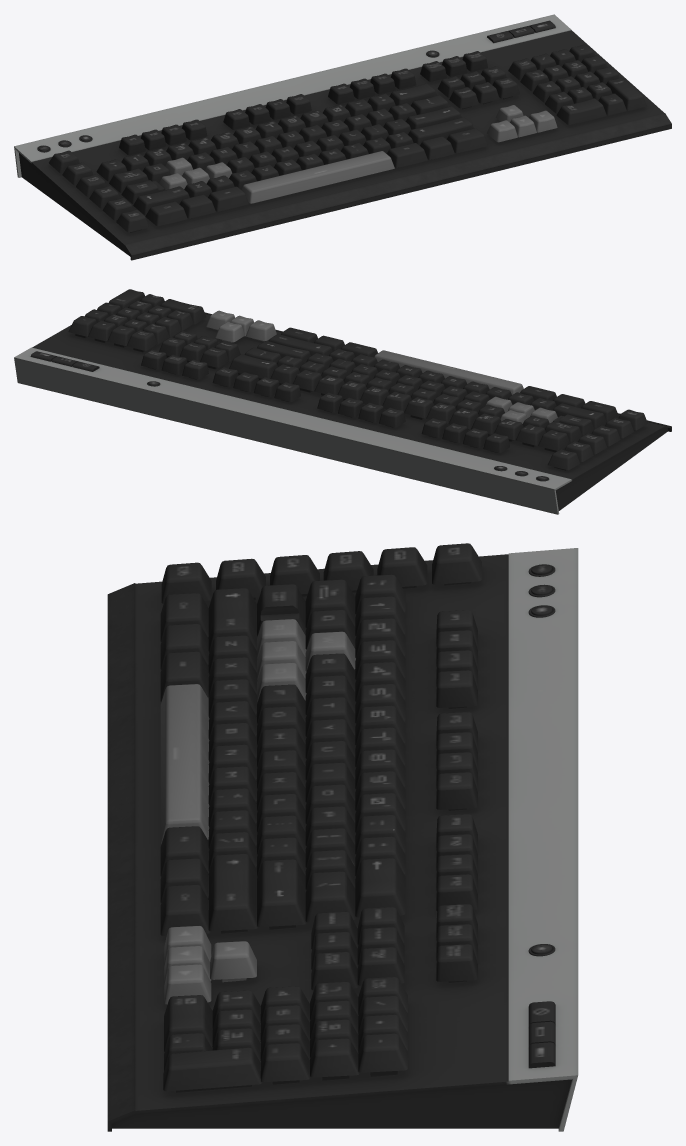
Rendered from GamingKeyboard.obj.
3 renders of one model, top to bottom at view 1: azimuth 30°, elevation 25°; view 2: azimuth 150°, elevation 25°; view 3: azimuth 270°, elevation 25°, orthographic. The views are drawn at different scales.
Parts seen in each view (by area): view 1: gaming_keyboard; view 2: gaming_keyboard; view 3: gaming_keyboard.
Part boxes in pixels (box(x1,y1,x2,y2)): gaming_keyboard: box(14, 14, 671, 260); gaming_keyboard: box(14, 289, 671, 514); gaming_keyboard: box(107, 543, 578, 1131).
Bounding box in the file's own units: 45.89 × 3.02 × 17.3.
